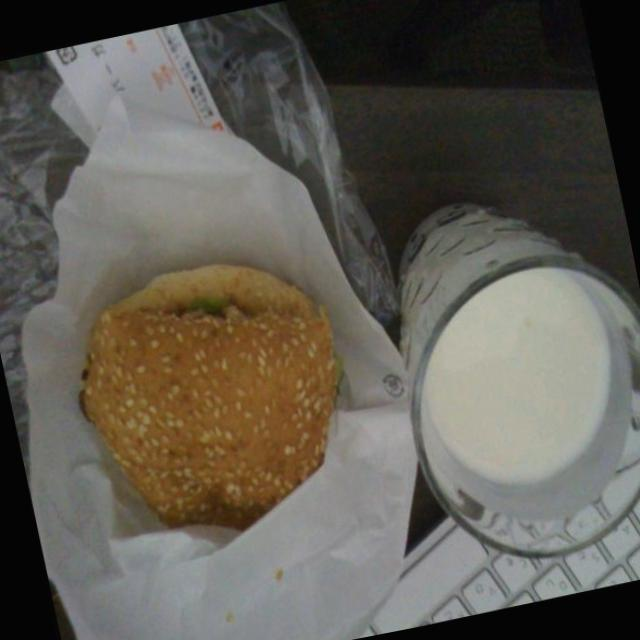Hamburger: (59, 206, 374, 569)
